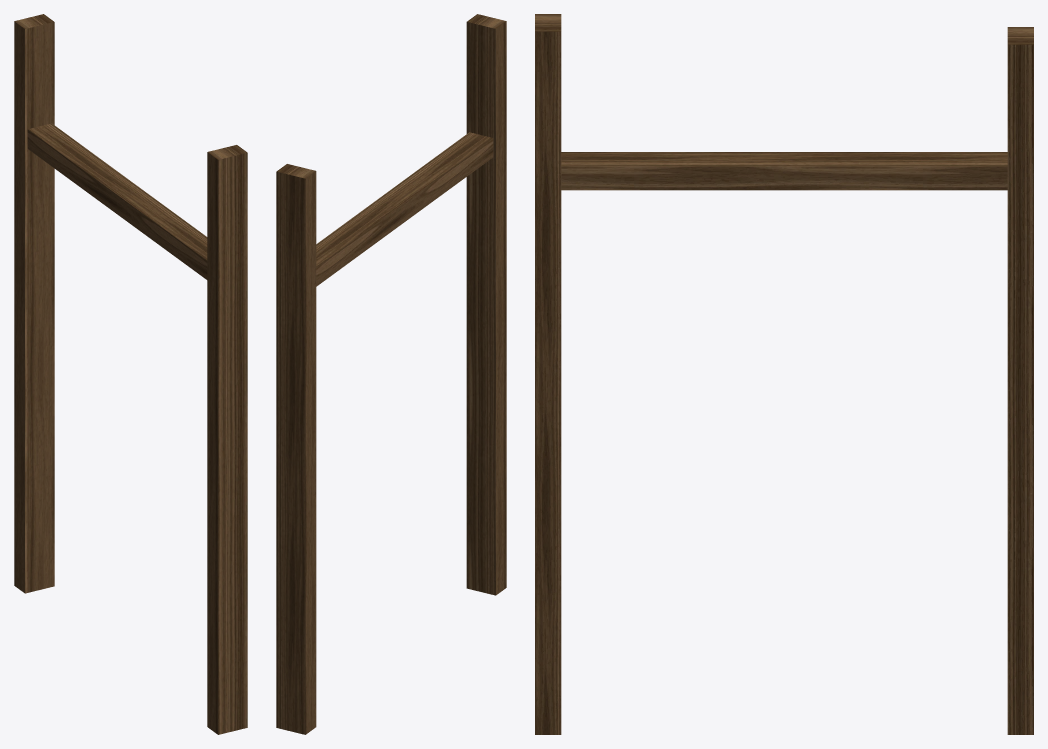
The model's file is Wooden 28.glb.
The picture shows the model from 3 angles, left to right: view 1: azimuth 30°, elevation 25°; view 2: azimuth 150°, elevation 25°; view 3: azimuth 270°, elevation 25°; orthographic projection. The views are drawn at different scales.
Visible parts, largest first — view 1: Wooden_28; view 2: Wooden_28; view 3: Wooden_28.
Part boxes in pixels (bbox=[...]): Wooden_28: bbox=[14, 14, 247, 734]; Wooden_28: bbox=[276, 14, 506, 734]; Wooden_28: bbox=[535, 14, 1033, 734].
Bounding box in the file's own units: 0.0795 × 1.48 × 0.9504.
1 material, 1 textured.
